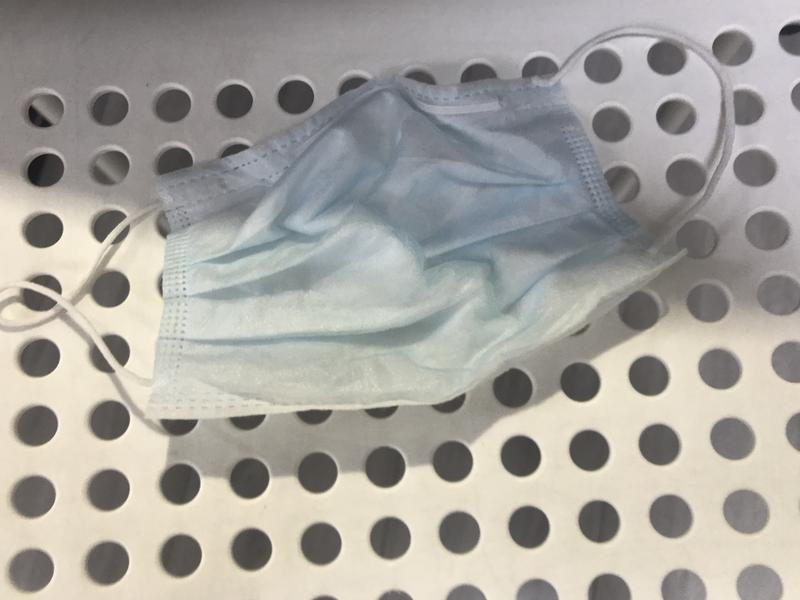medical_mask: (2, 24, 732, 413)
